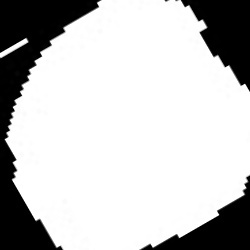spot: (4, 1, 248, 249)
